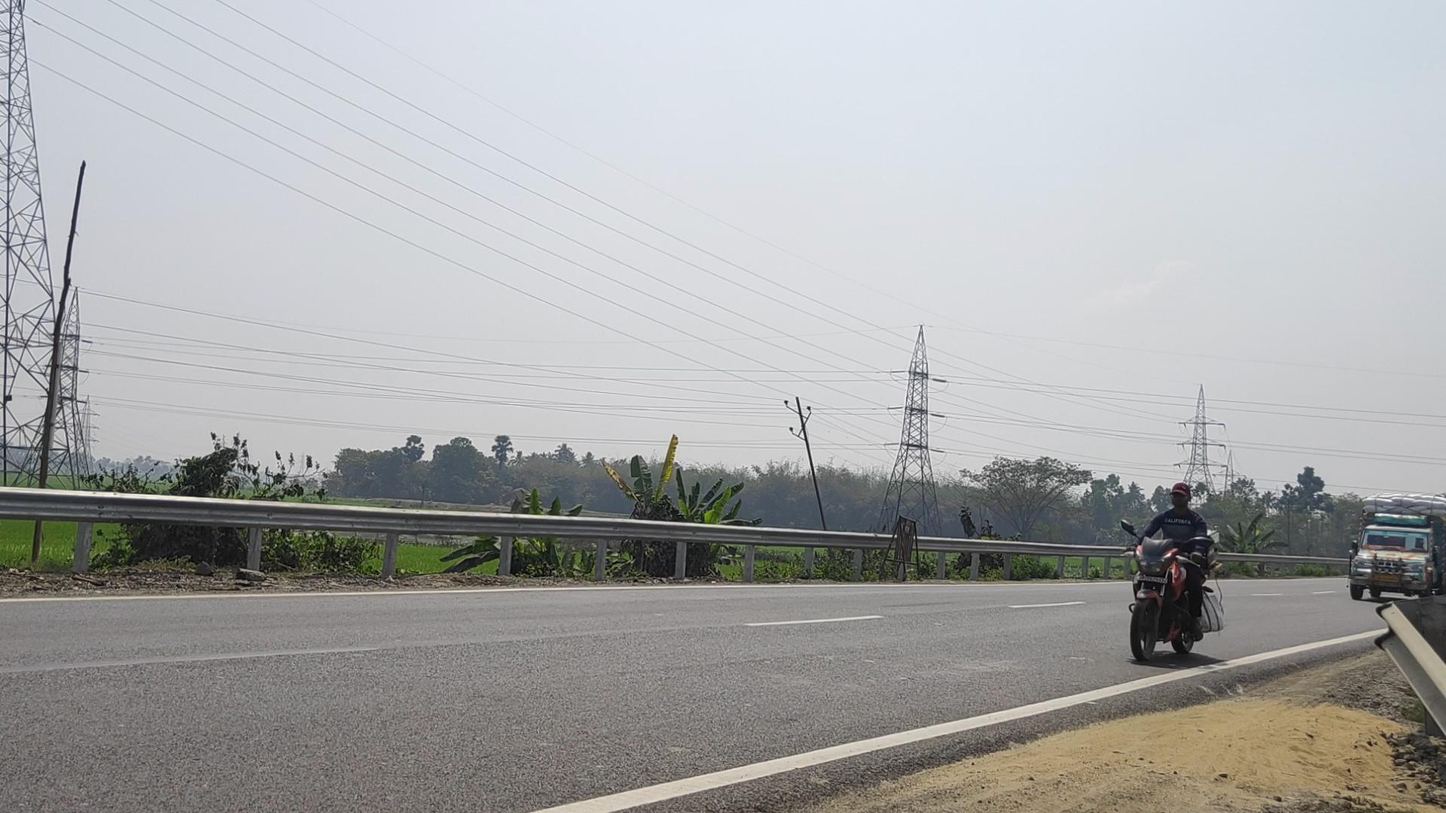bike: (1121, 483, 1226, 663)
van: (1348, 494, 1446, 604)
